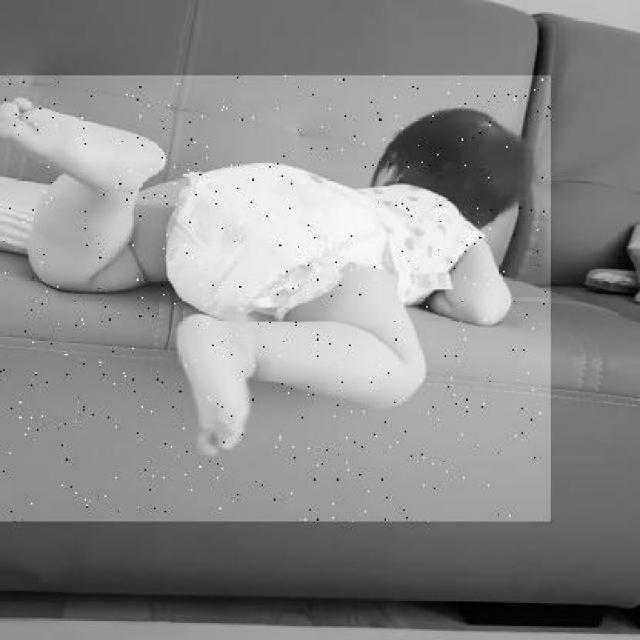child: (0, 76, 551, 522)
